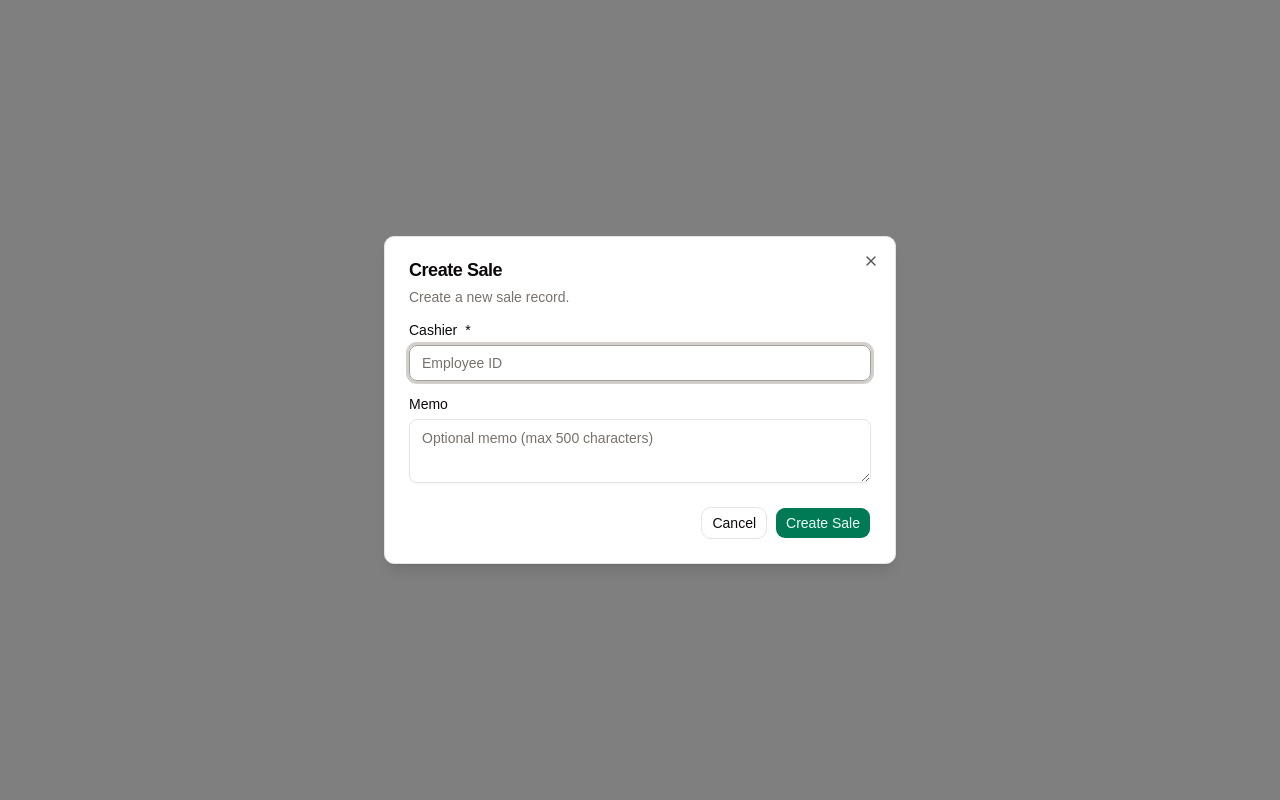
Test: SaleForm › error message display › shows network error message
Type "emp-1" into the field labelled "Cashier *".
click(640, 363); type("emp-1")  # box left=409, top=345, right=871, bottom=381
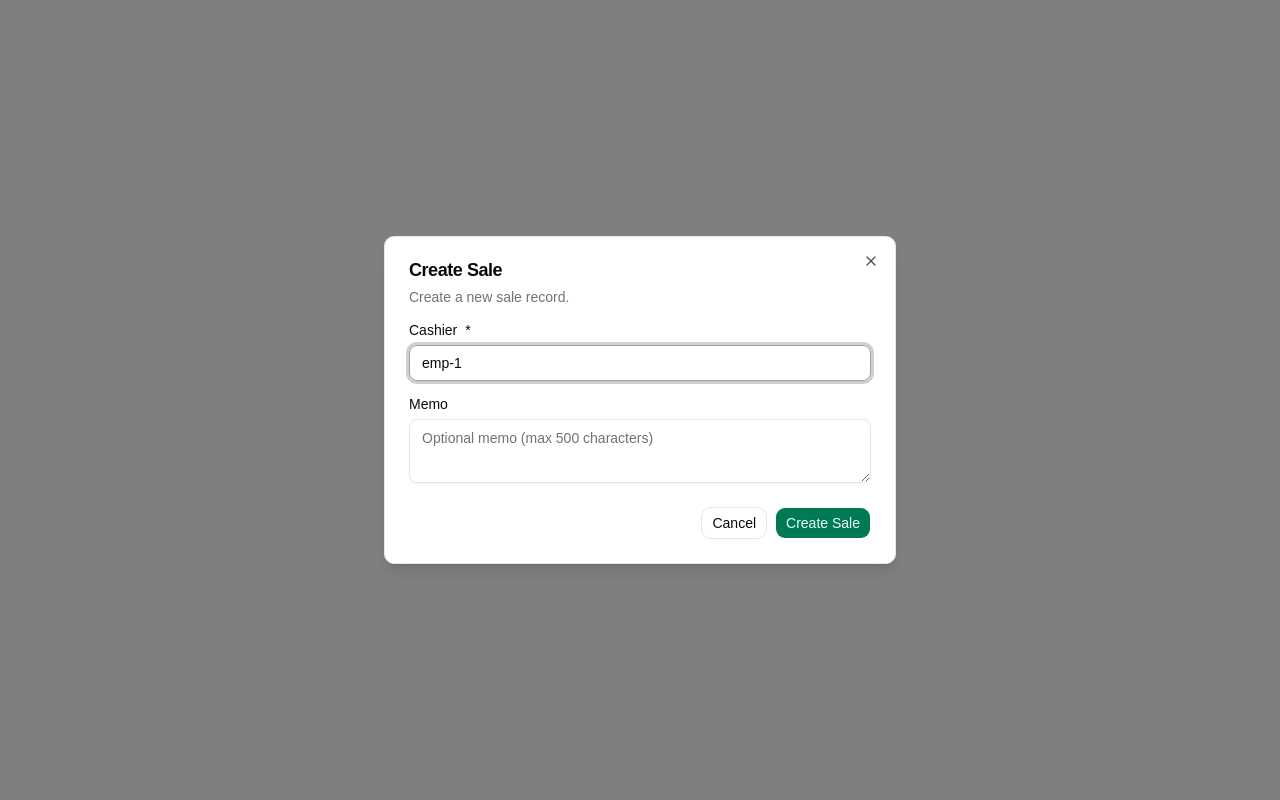
Submit the form, box left=409, top=323, right=871, bottom=539
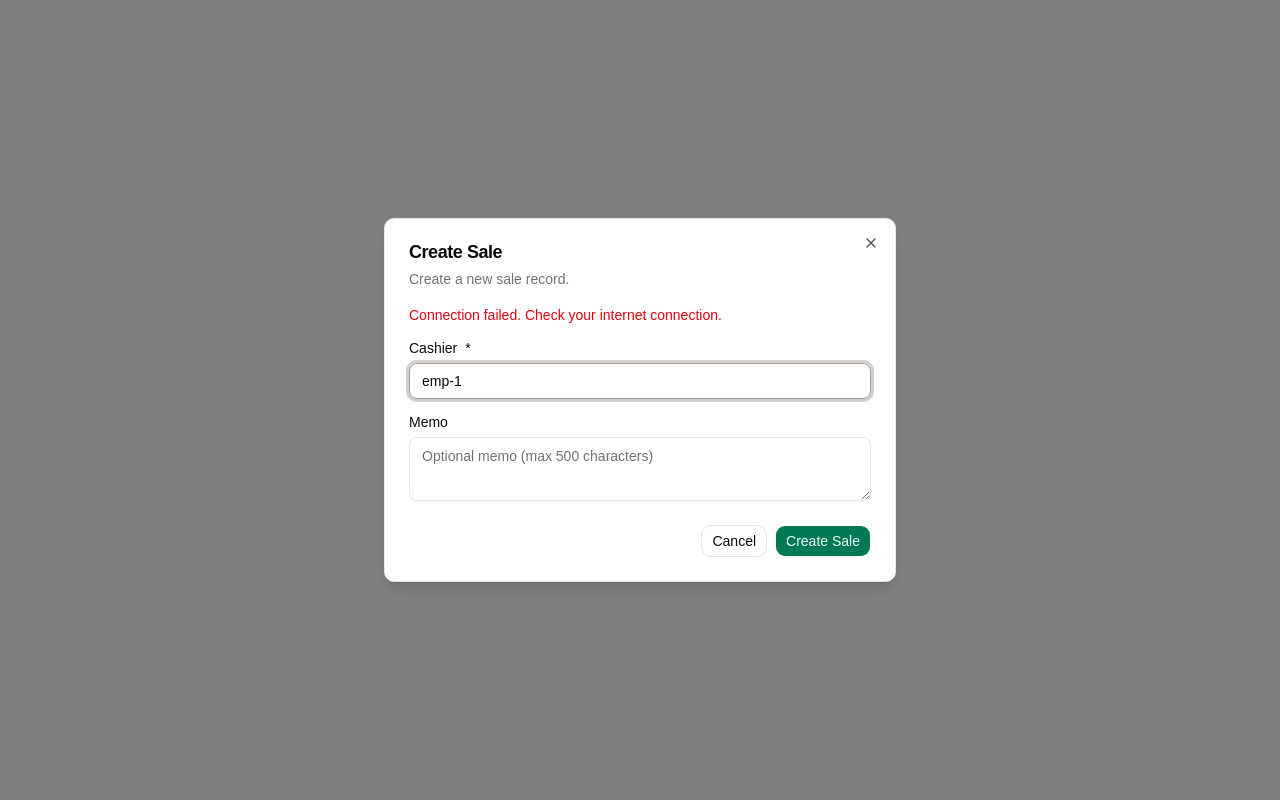
expect the text "Connection failed. Check your internet connection." is shown: met, box left=409, top=307, right=722, bottom=323
